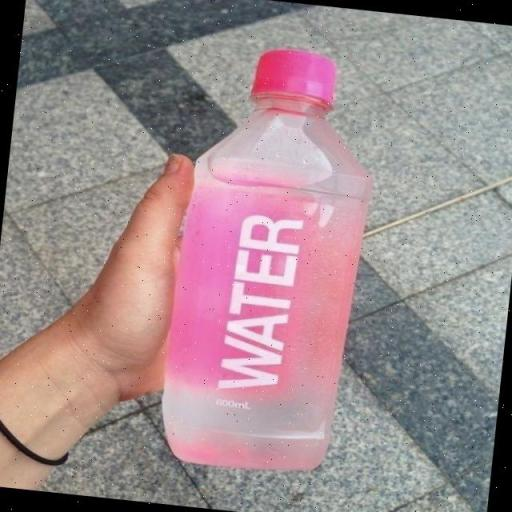plastic: (148, 37, 390, 482)
